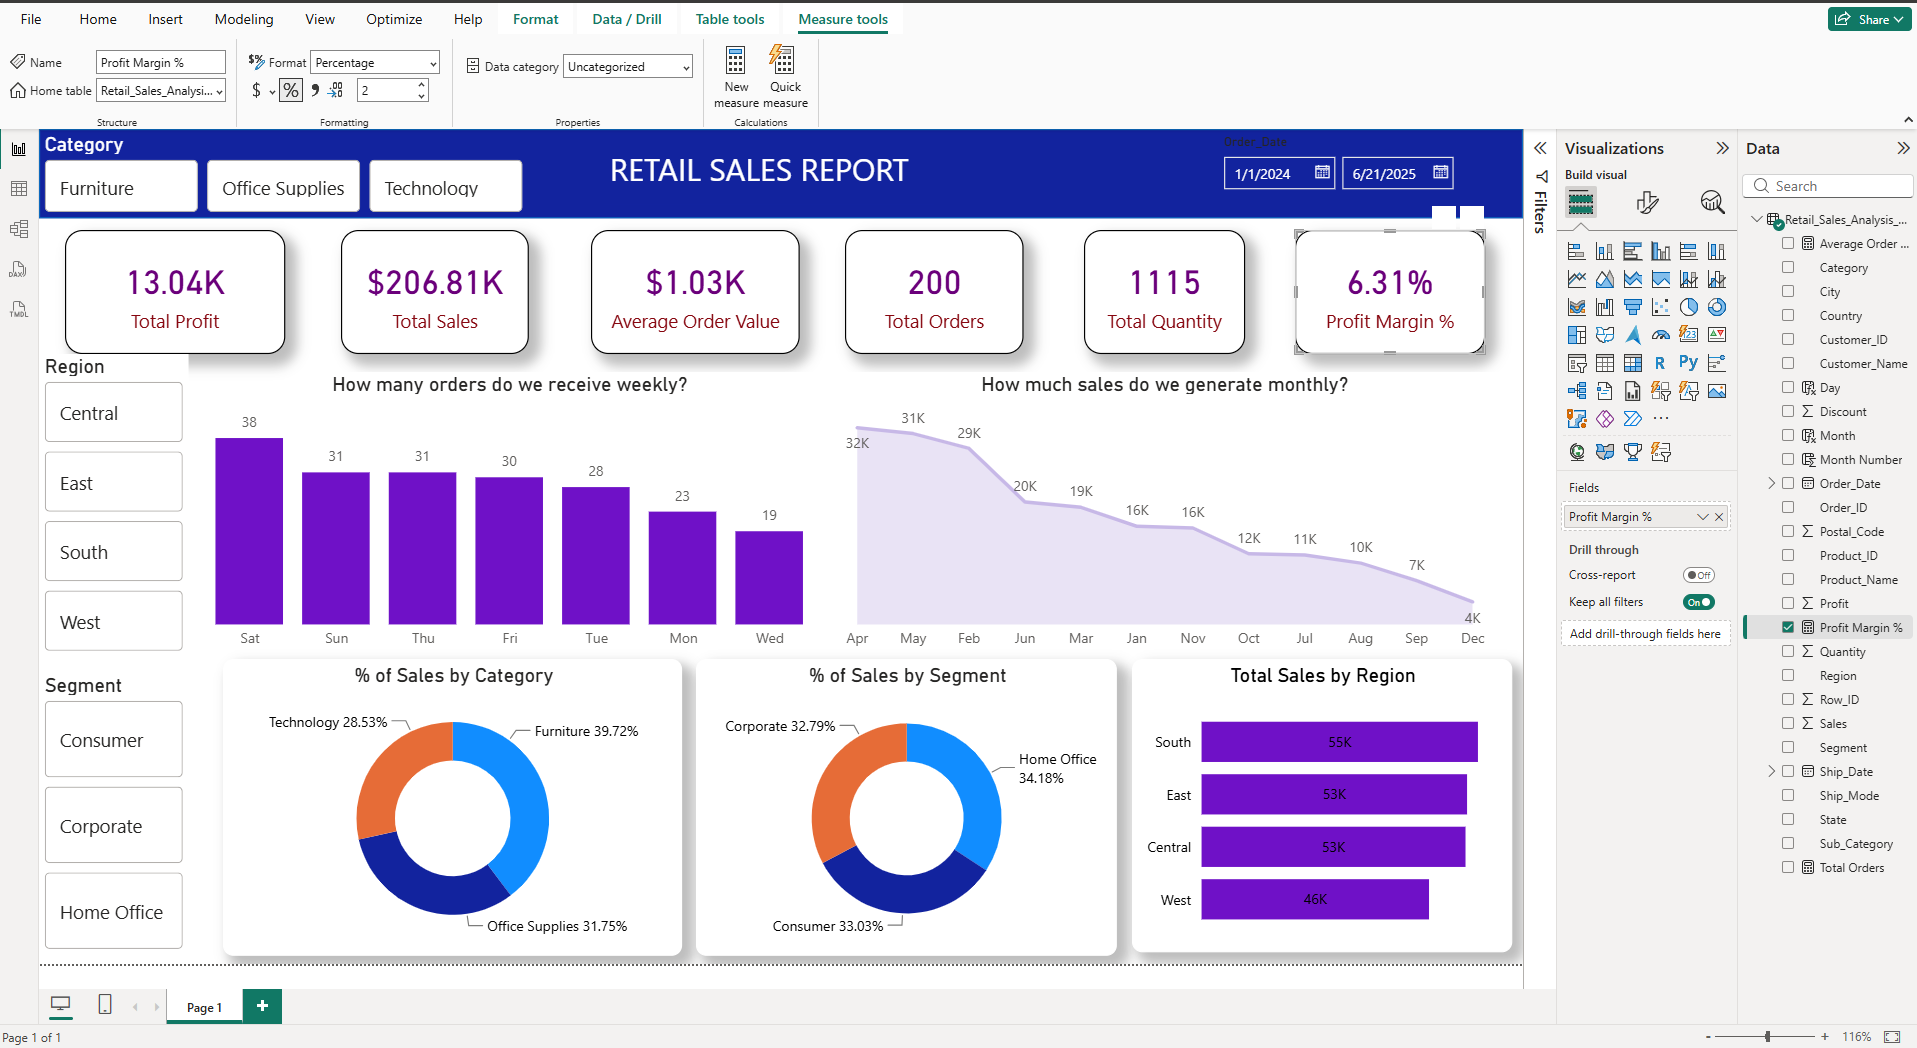

The page's visual inventory and layout, read from the dashboard file:
{"tool":"powerbi","page":{"name":"Page 1","canvas":[1280,720],"ordinal":0},"visuals":[{"type":"shape","box":[0,0,1280,77.1],"z":0},{"type":"textbox","box":[487.2,11,284.9,53.7],"z":1000},{"type":"card","fields":{"Values":["Sum(Retail_Sales_Analysis_Dataset.Sales)"]},"box":[260.1,86.7,162.4,107.4],"z":2000},{"type":"card","fields":{"Values":["Retail_Sales_Analysis_Dataset.Average Order Value"]},"box":[476.2,86.7,180.3,107.4],"z":3000},{"type":"card","fields":{"Values":["Retail_Sales_Analysis_Dataset.Total Orders"]},"box":[695.1,86.7,154.2,107.4],"z":4000},{"type":"card","fields":{"Values":["Sum(Retail_Sales_Analysis_Dataset.Quantity)"]},"box":[901.5,86.7,139,107.4],"z":5000},{"type":"card","fields":{"Values":["Retail_Sales_Analysis_Dataset.Profit Margin %"]},"box":[1083.2,86.7,163.8,107.4],"z":6000},{"type":"slicer","fields":{"Values":["Retail_Sales_Analysis_Dataset.Order_Date"]},"box":[1008.9,0,228.5,77.1],"z":7000},{"type":"advancedSlicerVisual","fields":{"Values":["Retail_Sales_Analysis_Dataset.Category"]},"box":[0,2.8,422.5,74.3],"z":8000},{"type":"clusteredColumnChart","title":"How many orders do we receive weekly?","fields":{"Category":["Retail_Sales_Analysis_Dataset.Day"],"Y":["Retail_Sales_Analysis_Dataset.Total Orders"]},"box":[117,209.2,578.1,247.7],"z":9000},{"type":"areaChart","title":"How much sales do we generate monthly?","fields":{"Category":["Retail_Sales_Analysis_Dataset.Month"],"Y":["Sum(Retail_Sales_Analysis_Dataset.Sales)"]},"box":[681.3,209.2,579.4,247.7],"z":10000},{"type":"donutChart","title":"% of Sales by Category","fields":{"Category":["Retail_Sales_Analysis_Dataset.Category"],"Y":["Sum(Retail_Sales_Analysis_Dataset.Sales)"]},"box":[158.3,456.9,396.4,256],"z":11000},{"type":"donutChart","title":"% of Sales by Segment","fields":{"Category":["Retail_Sales_Analysis_Dataset.Segment"],"Y":["Sum(Retail_Sales_Analysis_Dataset.Sales)"]},"box":[567.1,456.9,363.4,256],"z":12000},{"type":"clusteredBarChart","title":"Total Sales by Region","fields":{"Category":["Retail_Sales_Analysis_Dataset.Region"],"Y":["Sum(Retail_Sales_Analysis_Dataset.Sales)"]},"box":[942.8,456.9,327.6,253.2],"z":13000},{"type":"card","fields":{"Values":["Sum(Retail_Sales_Analysis_Dataset.Profit)"]},"box":[22,86.7,189.9,107.4],"z":14000},{"type":"advancedSlicerVisual","fields":{"Values":["Retail_Sales_Analysis_Dataset.Segment"]},"box":[0,469.3,129.4,243.6],"z":15000},{"type":"advancedSlicerVisual","fields":{"Values":["Retail_Sales_Analysis_Dataset.Region"]},"box":[0,194.1,129.4,262.9],"z":16000}]}

Visuals, with their boxes on the page's 1280x720 design canvas (x1, y1, x2, y2). These are canvas units, not pixel positions in the 1917x1048 screenshot, which may show the page scaled, cropped or inside an application window:
shape: box=[0, 0, 1280, 77]
textbox: box=[487, 11, 772, 65]
card - Sum(Retail_Sales_Analysis_Dataset.Sales): box=[260, 87, 422, 194]
card - Retail_Sales_Analysis_Dataset.Average Order Value: box=[476, 87, 656, 194]
card - Retail_Sales_Analysis_Dataset.Total Orders: box=[695, 87, 849, 194]
card - Sum(Retail_Sales_Analysis_Dataset.Quantity): box=[902, 87, 1040, 194]
card - Retail_Sales_Analysis_Dataset.Profit Margin %: box=[1083, 87, 1247, 194]
slicer - Retail_Sales_Analysis_Dataset.Order_Date: box=[1009, 0, 1237, 77]
advancedSlicerVisual - Retail_Sales_Analysis_Dataset.Category: box=[0, 3, 422, 77]
"How many orders do we receive weekly?" clusteredColumnChart: box=[117, 209, 695, 457]
"How much sales do we generate monthly?" areaChart: box=[681, 209, 1261, 457]
"% of Sales by Category" donutChart: box=[158, 457, 555, 713]
"% of Sales by Segment" donutChart: box=[567, 457, 930, 713]
"Total Sales by Region" clusteredBarChart: box=[943, 457, 1270, 710]
card - Sum(Retail_Sales_Analysis_Dataset.Profit): box=[22, 87, 212, 194]
advancedSlicerVisual - Retail_Sales_Analysis_Dataset.Segment: box=[0, 469, 129, 713]
advancedSlicerVisual - Retail_Sales_Analysis_Dataset.Region: box=[0, 194, 129, 457]
